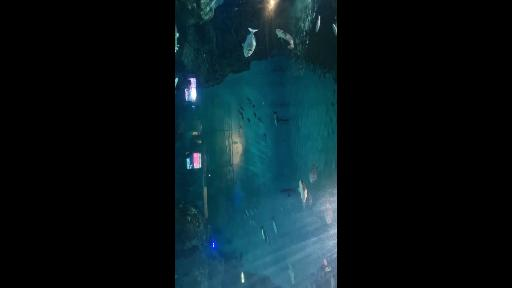Fish: (243, 28, 258, 57), (276, 29, 294, 49), (324, 199, 332, 223), (299, 180, 306, 202), (260, 226, 269, 243), (310, 164, 317, 182), (288, 264, 294, 284), (271, 217, 277, 233), (316, 15, 320, 32), (307, 194, 312, 207), (274, 112, 278, 125), (333, 24, 337, 35), (239, 104, 244, 111), (331, 276, 334, 287), (258, 118, 263, 124), (281, 189, 296, 191), (323, 259, 327, 266), (175, 78, 178, 87), (245, 210, 248, 217), (247, 97, 251, 102), (250, 209, 253, 215), (240, 252, 242, 260), (241, 116, 244, 121), (263, 133, 266, 138), (239, 110, 242, 115), (239, 124, 242, 129), (254, 110, 256, 117), (252, 105, 255, 109), (247, 118, 250, 122), (255, 207, 257, 212), (281, 207, 283, 212), (288, 193, 290, 197)
